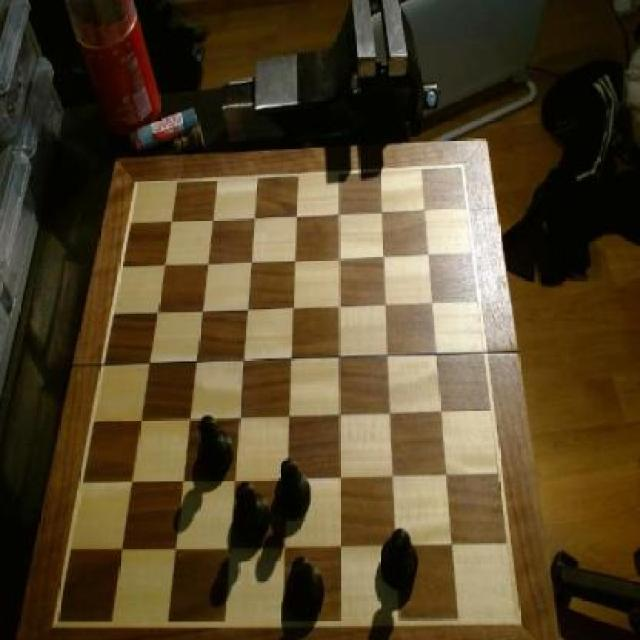black-knight: (377, 528, 420, 598), (286, 554, 327, 623), (193, 411, 234, 478), (232, 480, 273, 547), (274, 456, 313, 522)
